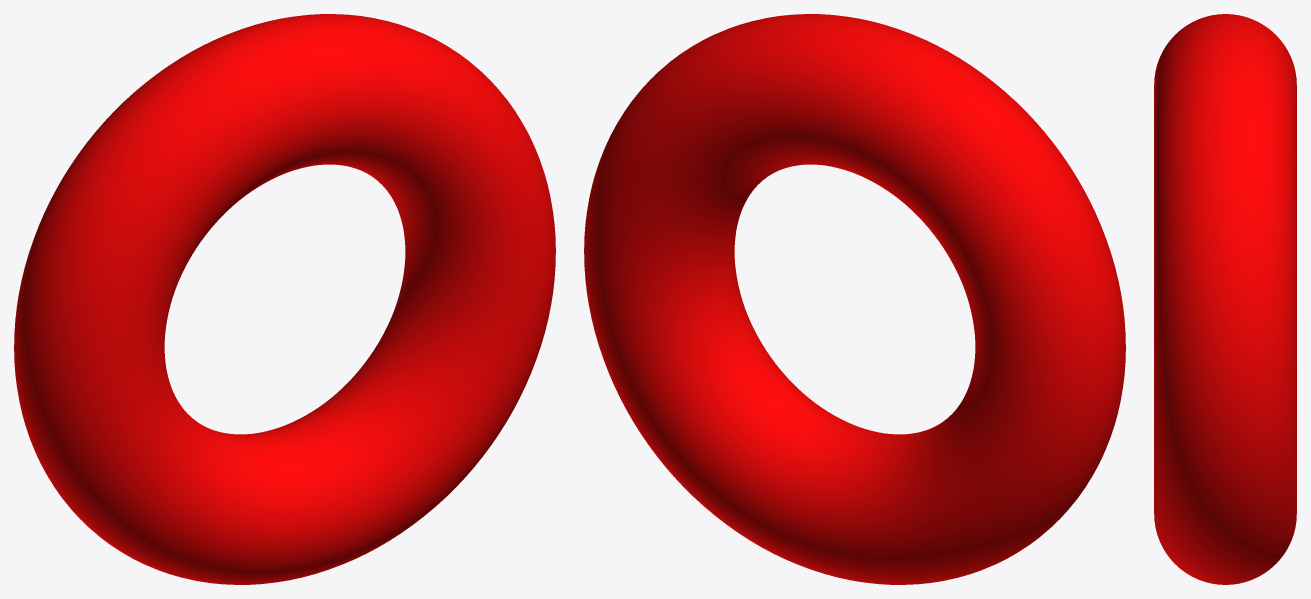
Rendered from serial_test_example_fn_std-solid-appearance1_output.gltf.
3 views of the same model, side by side, from view 1: azimuth 30°, elevation 25°; view 2: azimuth 150°, elevation 25°; view 3: azimuth 270°, elevation 25° (orthographic). The views are drawn at different scales.
Bounding box in the file's own units: 0.04 × 0.04 × 0.01.
